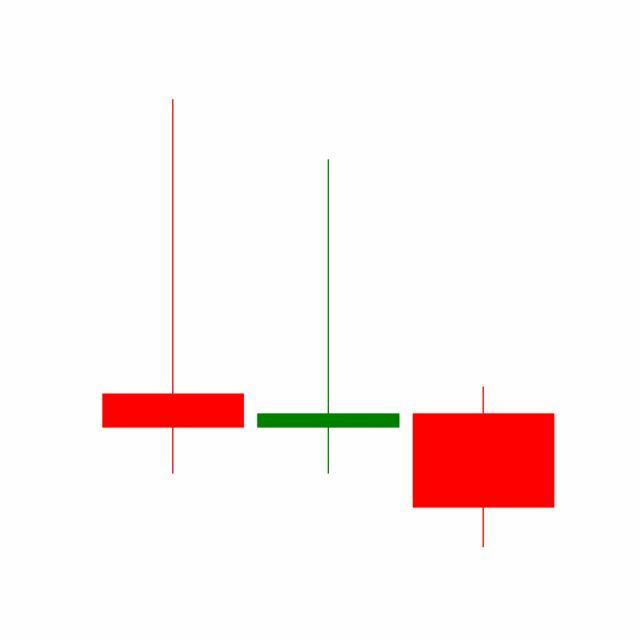Spinning Top: (250, 156, 407, 478)
